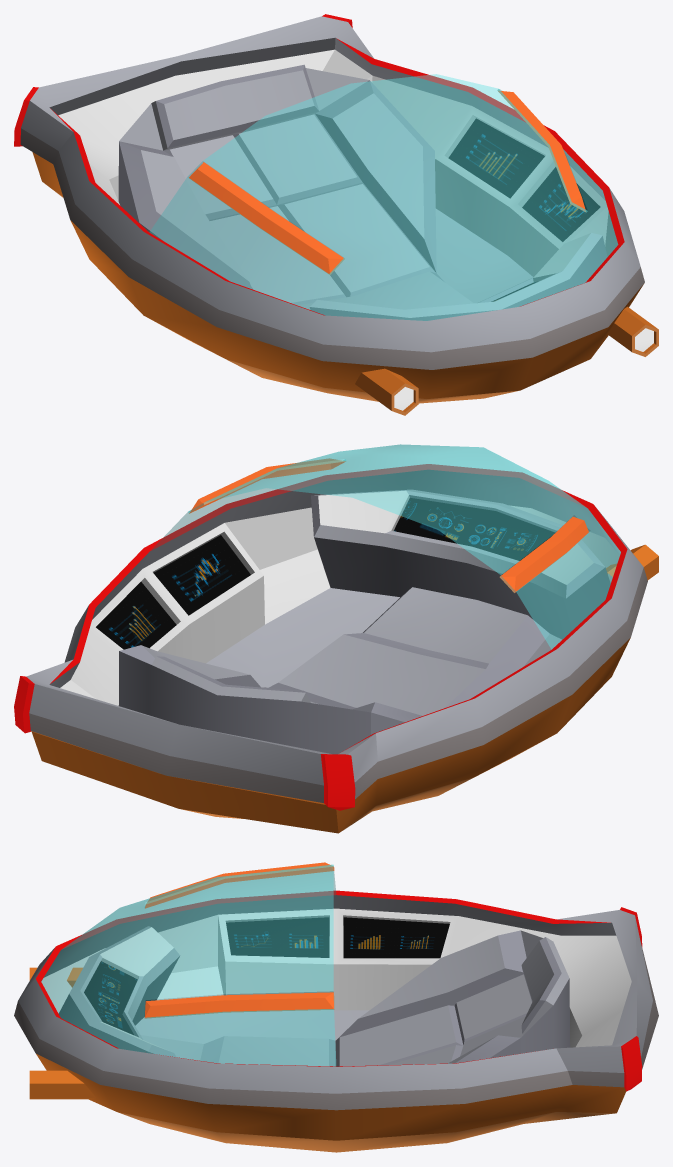
Rendered from Spaceship_Orange.glb.
3 renders of one model, top to bottom at view 1: azimuth 30°, elevation 25°; view 2: azimuth 150°, elevation 25°; view 3: azimuth 270°, elevation 25°, orthographic. The views are drawn at different scales.
Parts seen in each view (by area): view 1: SpaceShip_01; view 2: SpaceShip_01; view 3: SpaceShip_01.
Part boxes in pixels (bbox=[...]): SpaceShip_01: bbox=[14, 14, 658, 415]; SpaceShip_01: bbox=[14, 444, 658, 833]; SpaceShip_01: bbox=[14, 862, 658, 1152].
Size of what is drawn, in the model's own units: 3.51 by 1.87 by 5.06.
4 materials, 4 textured.
